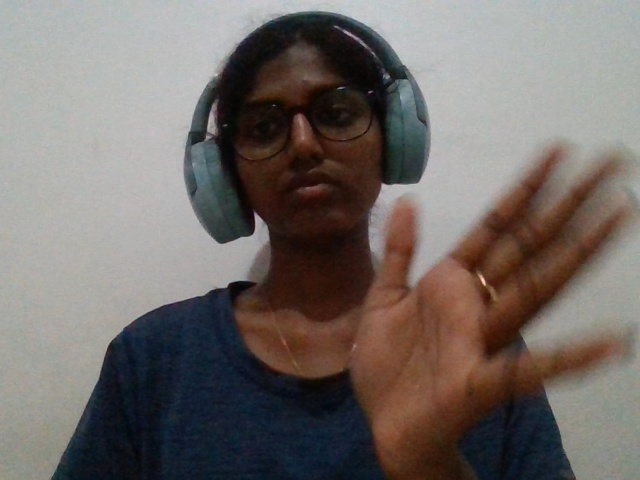Bye: (300, 121, 639, 480)
